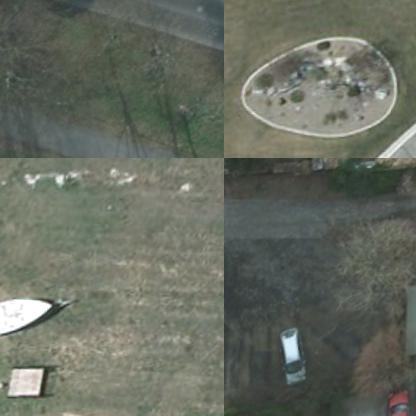boat: (0, 274, 67, 362)
car: (272, 326, 326, 390), (384, 390, 415, 415)
